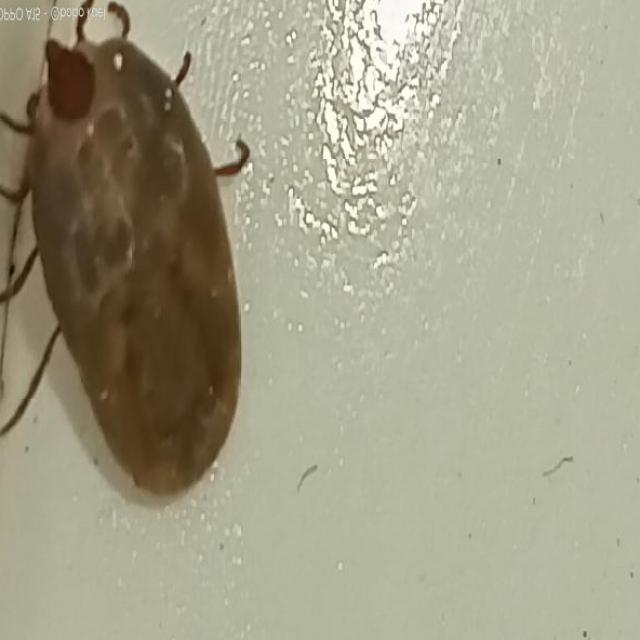Rhipicephalus Sanguineus-F-Fed: (0, 0, 250, 505)
